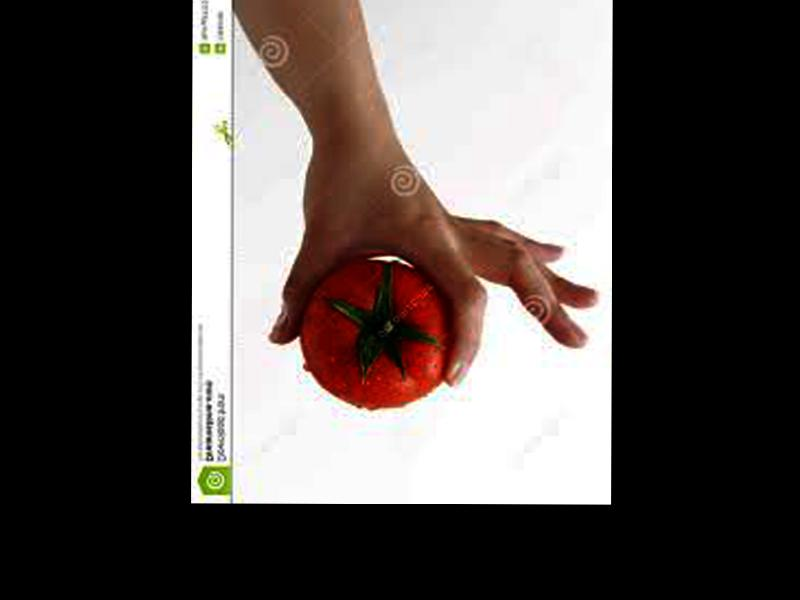Tomato: (300, 259, 454, 409)
